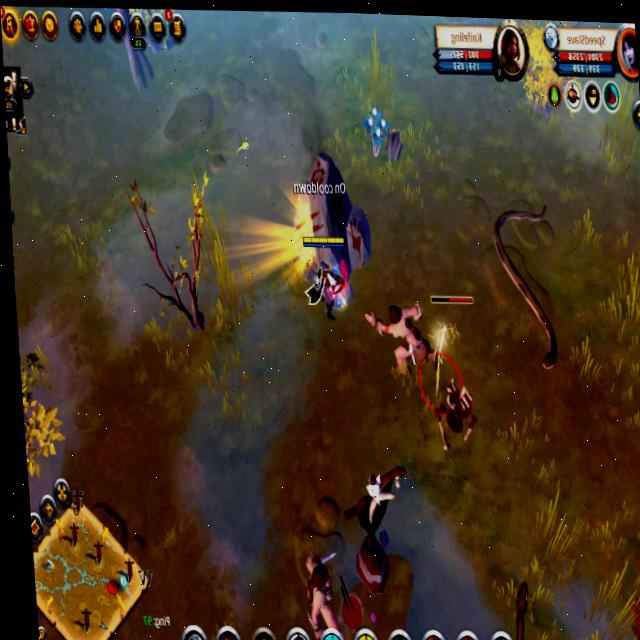hide: (360, 105, 394, 160), (627, 593, 640, 640)
ore: (358, 286, 487, 427), (483, 184, 571, 383), (294, 523, 355, 640), (507, 568, 576, 640)
red: (298, 230, 354, 331)
